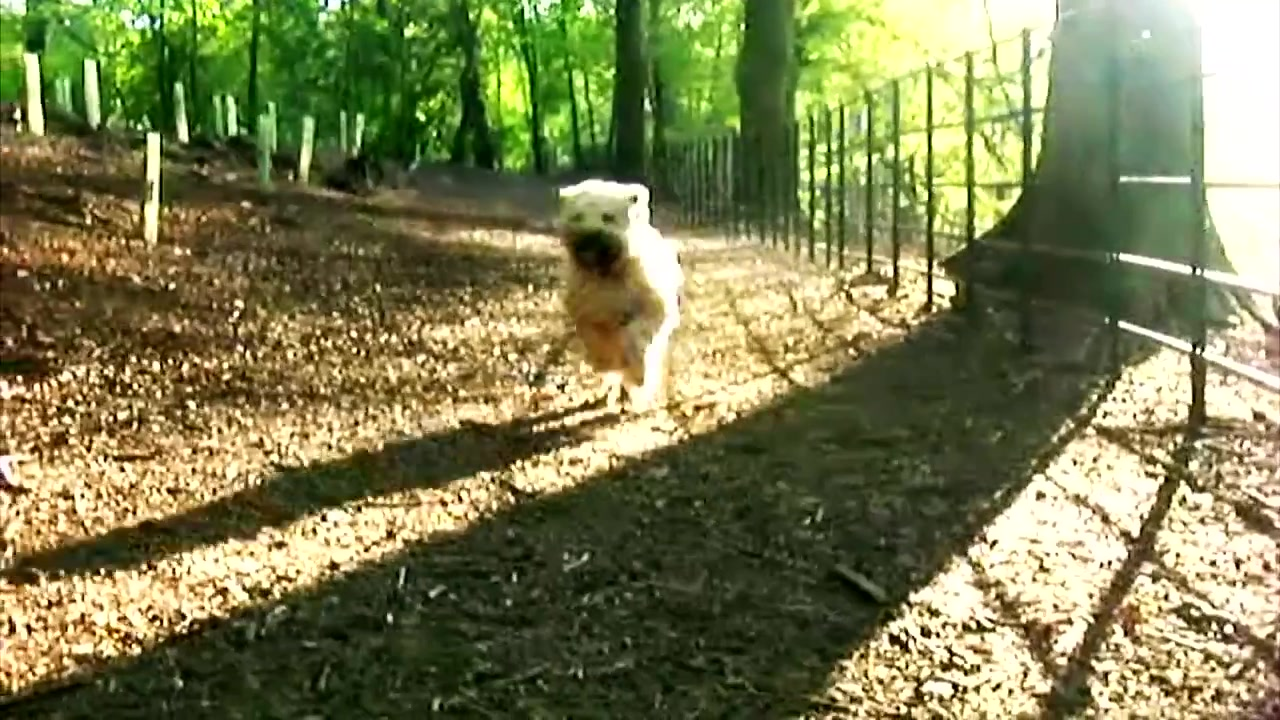dog: (556, 169, 678, 412)
